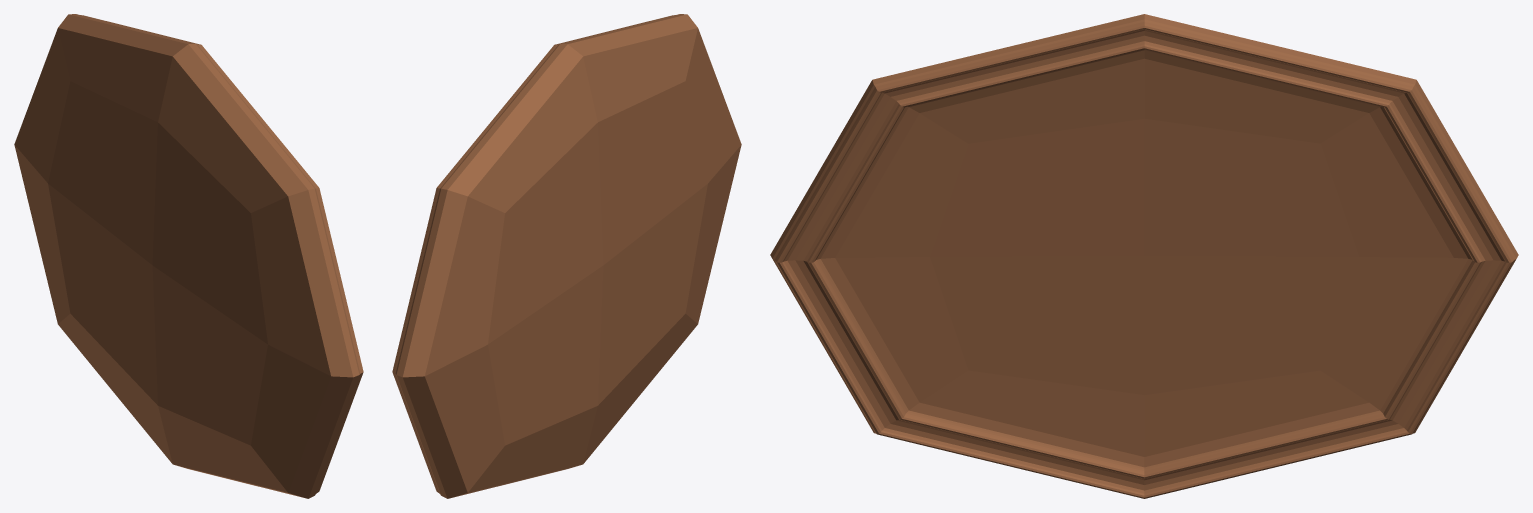
The model's file is Photo Frame4.fbx.
3 renders of one model, left to right at view 1: azimuth 30°, elevation 25°; view 2: azimuth 150°, elevation 25°; view 3: azimuth 270°, elevation 25°, orthographic. The views are drawn at different scales.
Parts seen in each view (by area): view 1: Cube.003; view 2: Cube.003; view 3: Cube.003.
Part boxes in pixels (bbox=[...]): Cube.003: bbox=[14, 14, 363, 498]; Cube.003: bbox=[392, 14, 741, 498]; Cube.003: bbox=[770, 14, 1518, 498].
Size of the model in its own units: 8.47 by 68.89 by 96.98.
